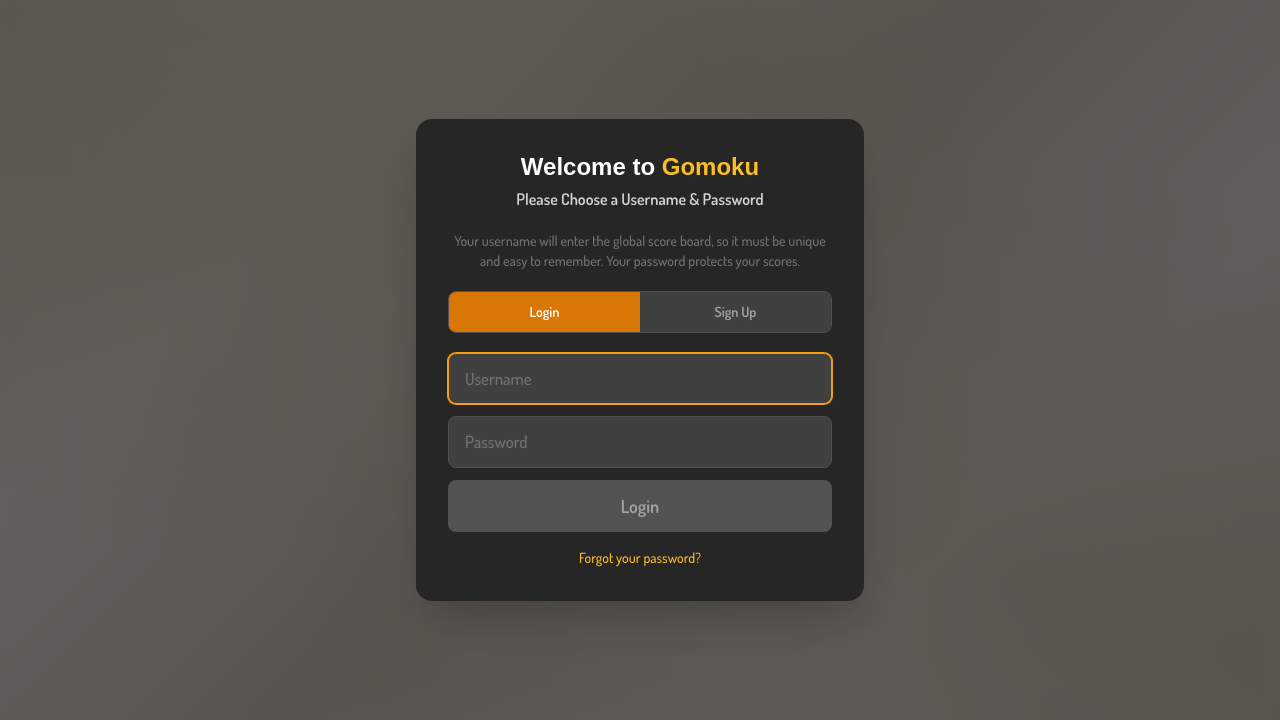
AuthModal › shows forgot password view when link is clicked
Click the button "Forgot your password?": (640, 558) [579, 548, 701, 568]
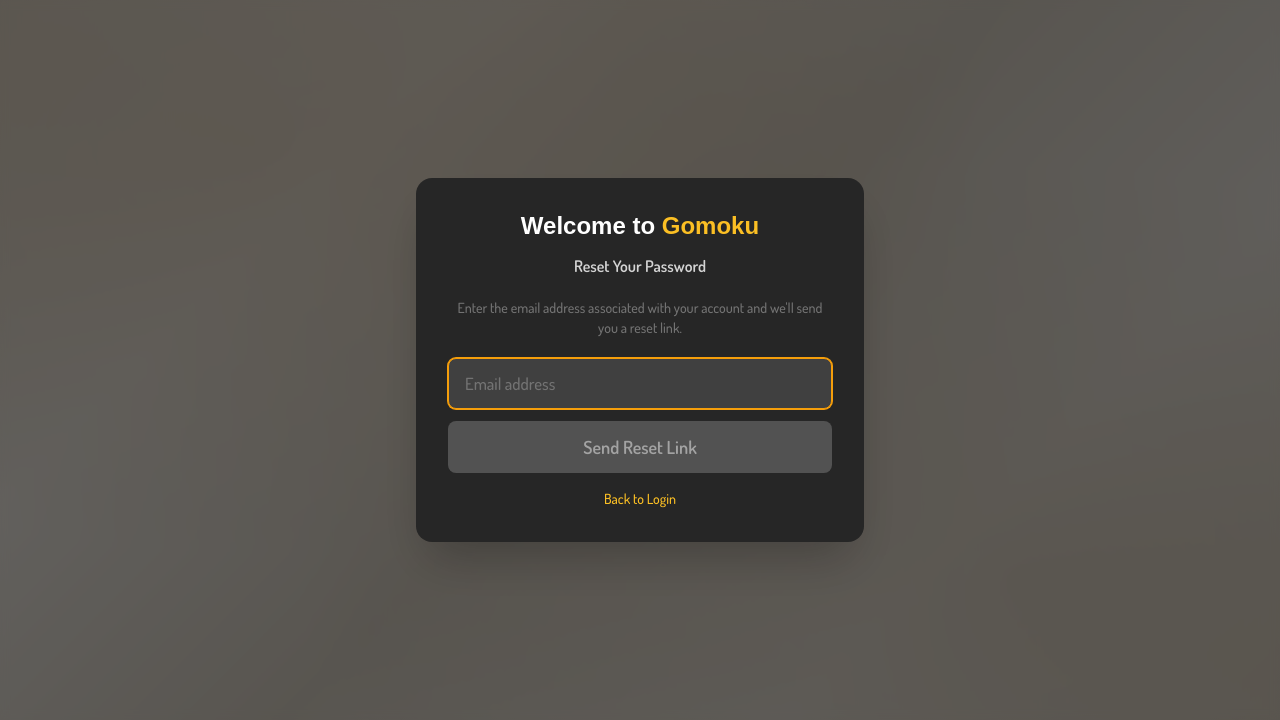
Now the text "Reset Your Password" is shown, box [574, 256, 706, 276]
Now the field with placeholder "Email address" is shown, box [448, 358, 832, 409]
Now the button "Back to Login" is shown, box [604, 489, 676, 509]
